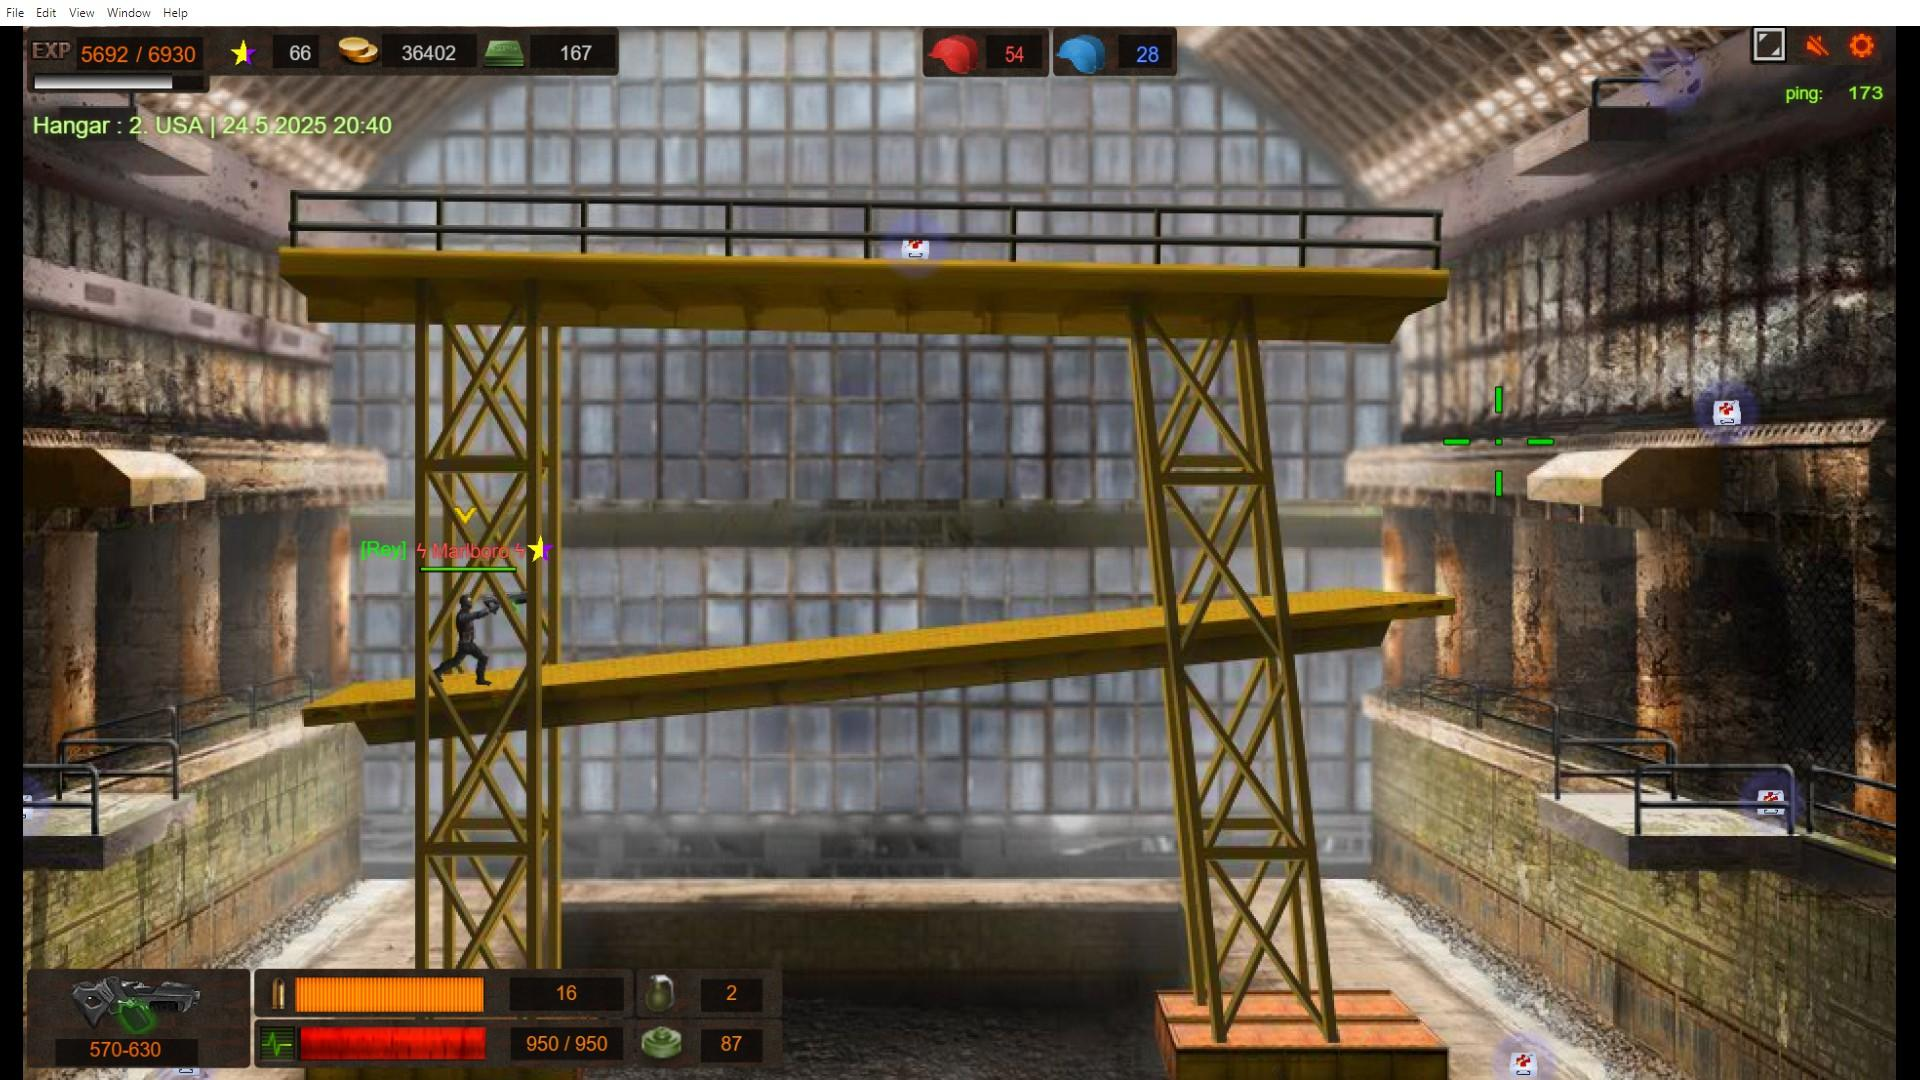enemy: (455, 595, 479, 684)
